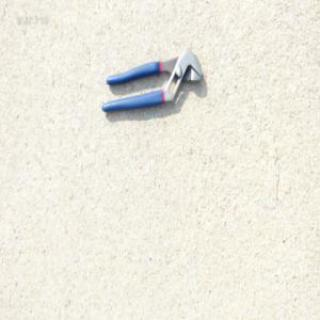Pliertrack_idkeyframe: (99, 50, 203, 114)
